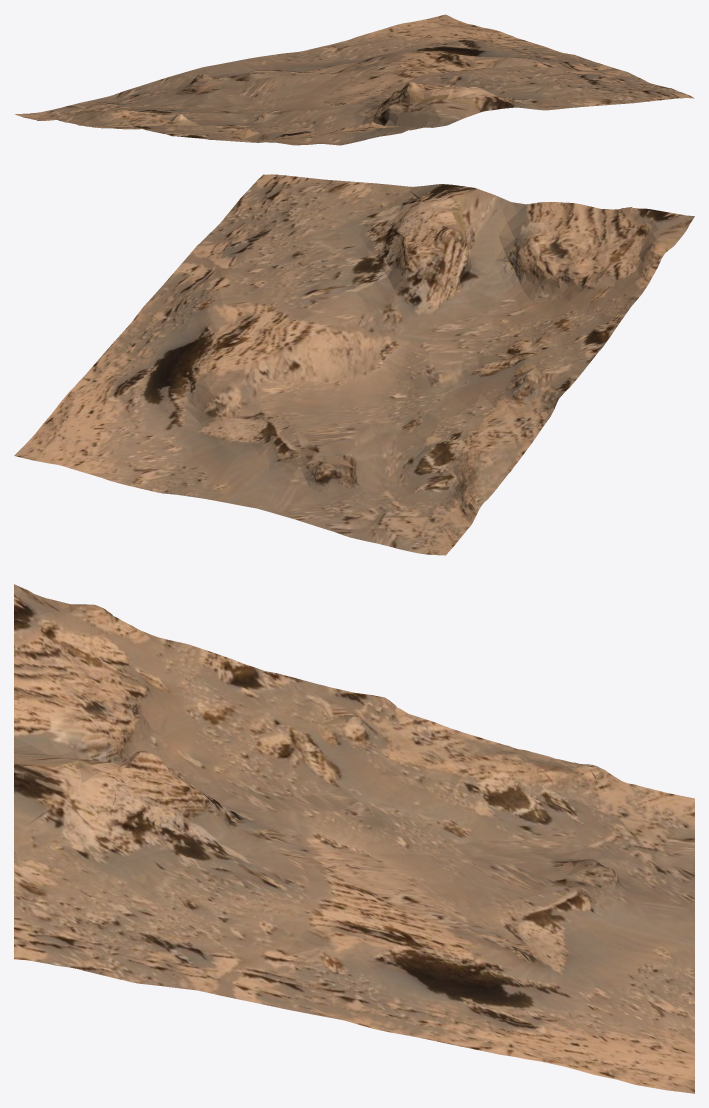
3 renders of one model, top to bottom at view 1: azimuth 30°, elevation 25°; view 2: azimuth 150°, elevation 25°; view 3: azimuth 270°, elevation 25°, orthographic. The views are drawn at different scales.
Bounding box in the file's own units: 2.09 × 0.7612 × 2.09.
3 materials, 3 textured.
